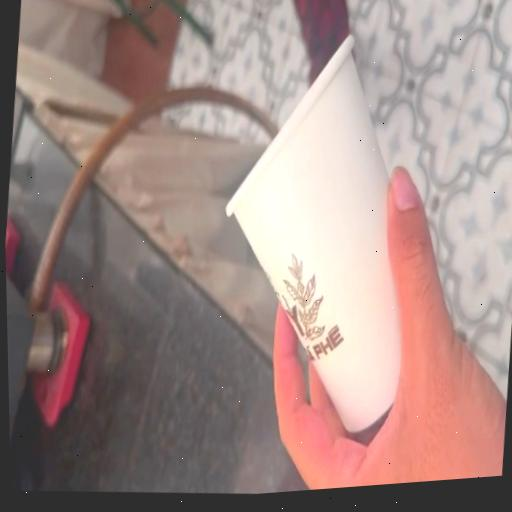Ly_giay: (227, 37, 401, 432)
